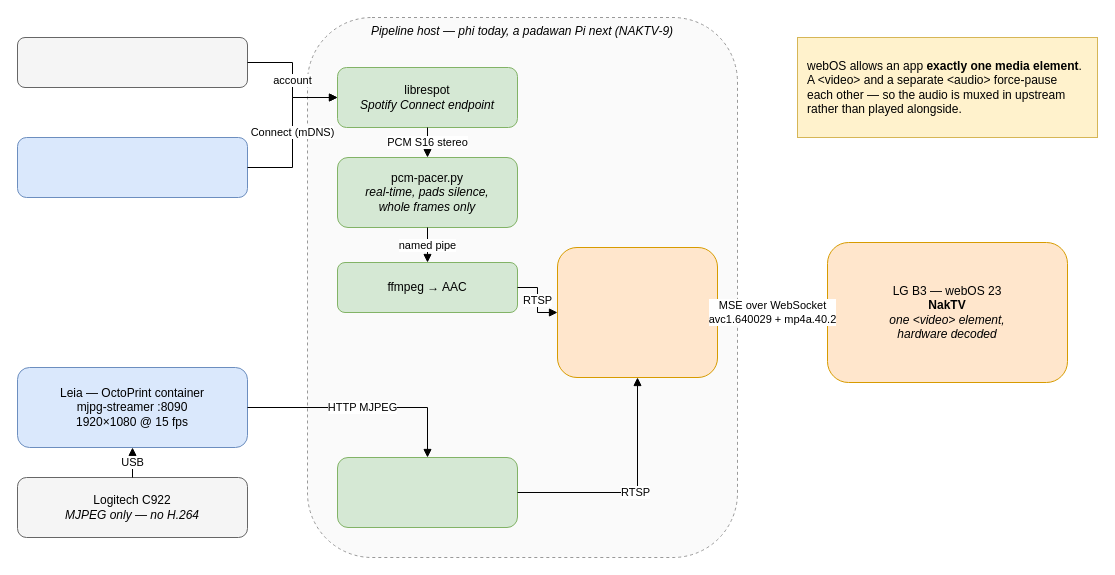
Image size: 1115x575. Some labels were removed from this diagram. The shapes that lost their labels are listed below. From the top down, each one's box as (x1, y1, x2, y2) in pixels, then its label:
(16, 36, 248, 88): Spotify
(16, 136, 248, 198): Phone / laptop picks "NakTV" in Connect
(556, 246, 718, 378): go2rtc printer_av muxes both tracks into one stream
(336, 456, 518, 528): ffmpeg → H.264 decode JPEG, encode video
